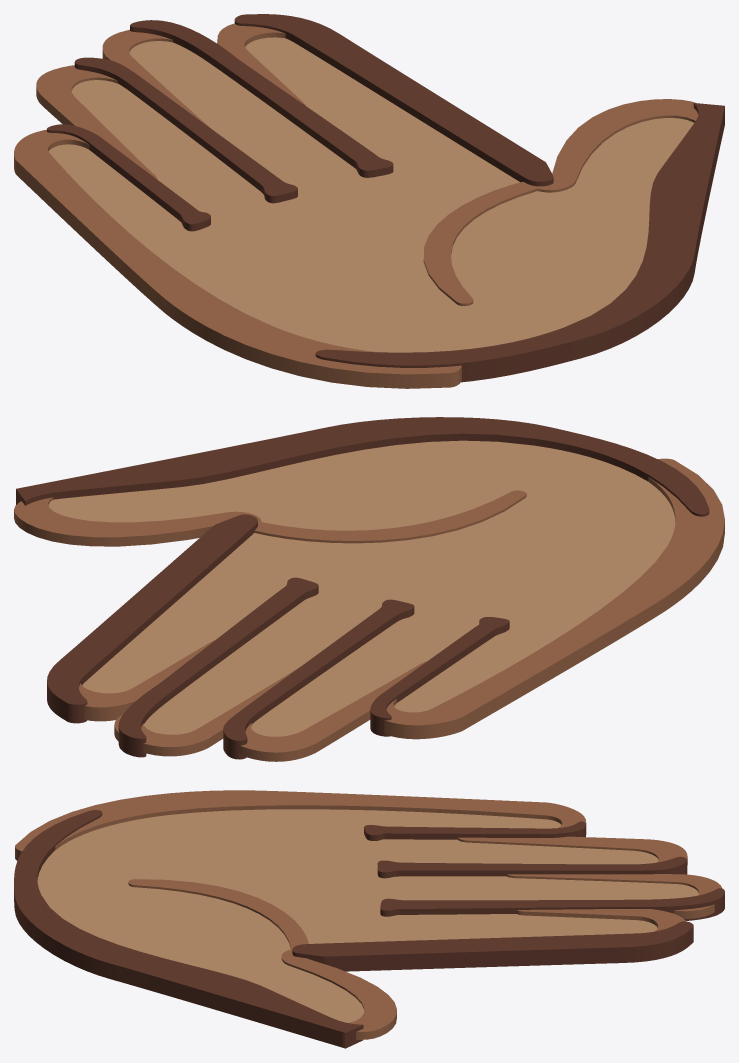
The model's file is emoji_u270b_1f3fd.glb.
3 renders of one model, top to bottom at view 1: azimuth 30°, elevation 25°; view 2: azimuth 150°, elevation 25°; view 3: azimuth 270°, elevation 25°, orthographic. The views are drawn at different scales.
Parts seen in each view (by area): view 1: emoji_u270b_1f3fd; view 2: emoji_u270b_1f3fd; view 3: emoji_u270b_1f3fd.
Boxes of the visible parts, box(x1,y1,x2,y2) form: emoji_u270b_1f3fd: box(14, 14, 724, 388); emoji_u270b_1f3fd: box(14, 417, 724, 761); emoji_u270b_1f3fd: box(14, 790, 724, 1048).
Size of the model in its own units: 0.0269 by 0.0008 by 0.033.
